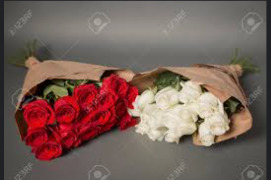RedRose: (20, 130, 62, 166), (19, 99, 58, 129), (50, 92, 80, 125), (72, 80, 99, 107)
